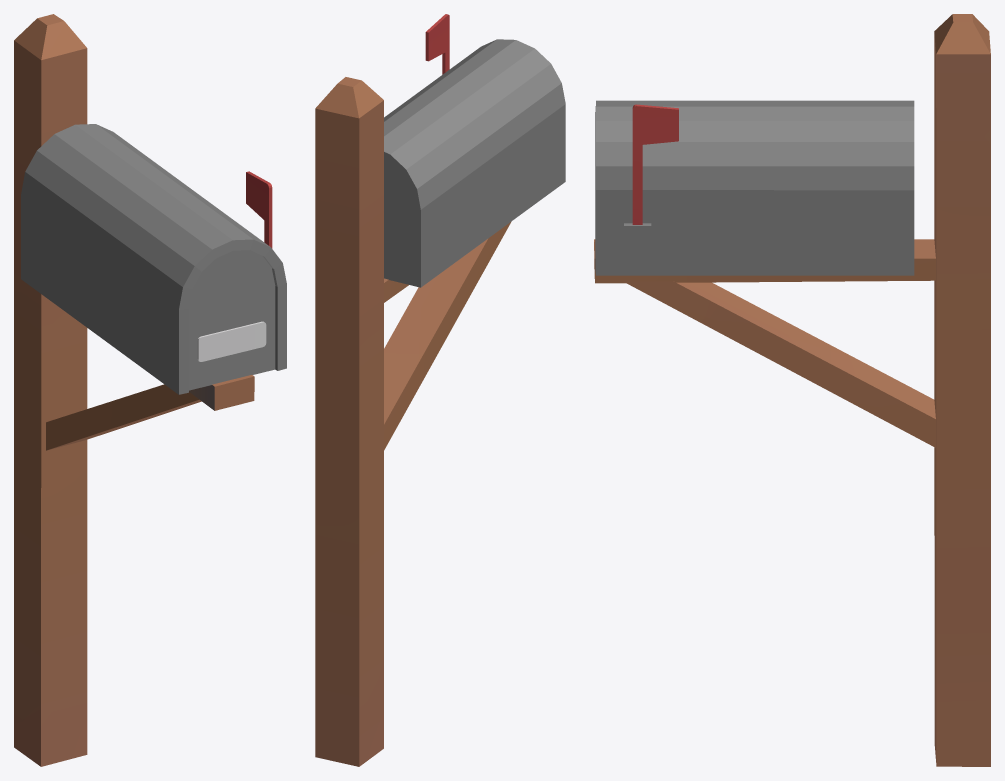
The model's file is mailbox.glb.
3 renders of one model, left to right at view 1: azimuth 30°, elevation 25°; view 2: azimuth 150°, elevation 25°; view 3: azimuth 270°, elevation 25°, orthographic. The views are drawn at different scales.
Parts seen in each view (by area): view 1: Mailbox; view 2: Mailbox; view 3: Mailbox.
Part boxes in pixels (<box>): Mailbox: <box>14,14,286,766</box>; Mailbox: <box>315,14,565,766</box>; Mailbox: <box>594,14,990,766</box>.
Bounding box in the file's own units: 0.1568 × 0.9663 × 0.4715.
Materials: 1 (1 with a texture image).
